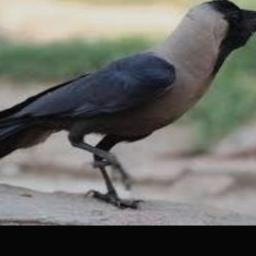Crow: (0, 0, 256, 210)
